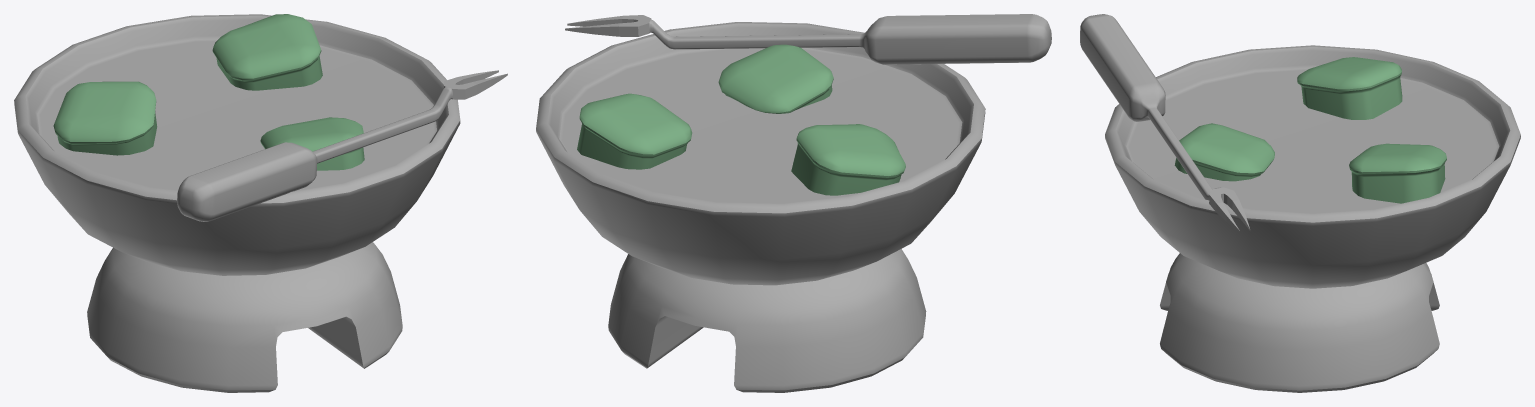
File: S2_ChocolateFountain.fbx
3 renders of one model, left to right at view 1: azimuth 30°, elevation 25°; view 2: azimuth 150°, elevation 25°; view 3: azimuth 270°, elevation 25°, orthographic. The views are drawn at different scales.
Visible parts, largest first — view 1: S2_ChocolateFountain; view 2: S2_ChocolateFountain; view 3: S2_ChocolateFountain.
Part boxes in pixels (<box>): S2_ChocolateFountain: <box>14,14,507,392</box>; S2_ChocolateFountain: <box>536,14,1051,392</box>; S2_ChocolateFountain: <box>1080,14,1520,392</box>.
Size of the model in its own units: 1749 by 1046 by 1691.
